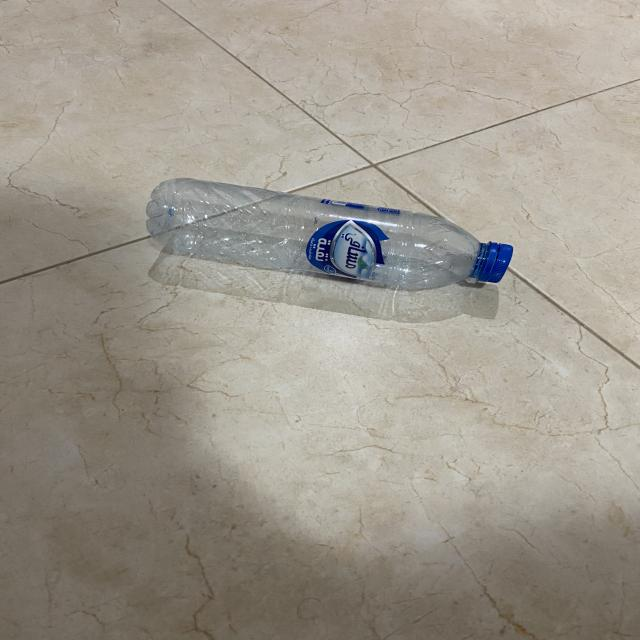bottle: (140, 173, 540, 295)
